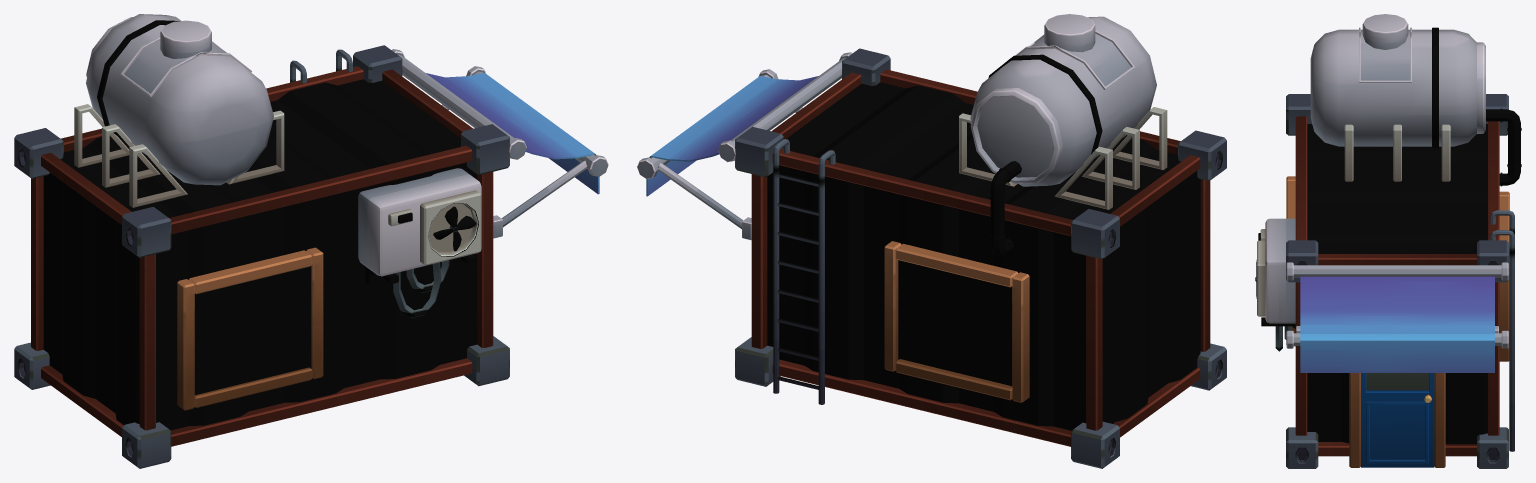
Rendered from house6.fbx.
The picture shows the model from 3 angles, left to right: view 1: azimuth 30°, elevation 25°; view 2: azimuth 150°, elevation 25°; view 3: azimuth 270°, elevation 25°; orthographic projection. The views are drawn at different scales.
Visible parts, largest first — view 1: finb_house_11.001; view 2: finb_house_11.001; view 3: finb_house_11.001.
Part boxes in pixels (<box>): finb_house_11.001: <box>14,14,608,468</box>; finb_house_11.001: <box>637,14,1226,468</box>; finb_house_11.001: <box>1255,14,1521,468</box>.
Bounding box in the file's own units: 630 × 478 × 349.
1 material, 1 textured.
